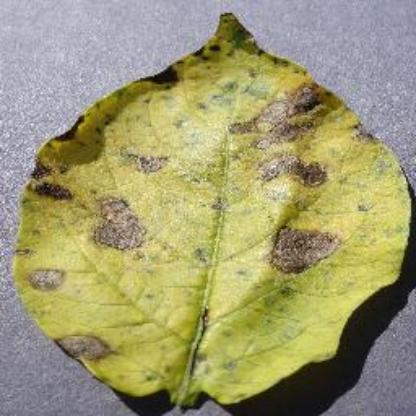Early-Blight: (10, 8, 416, 416)
